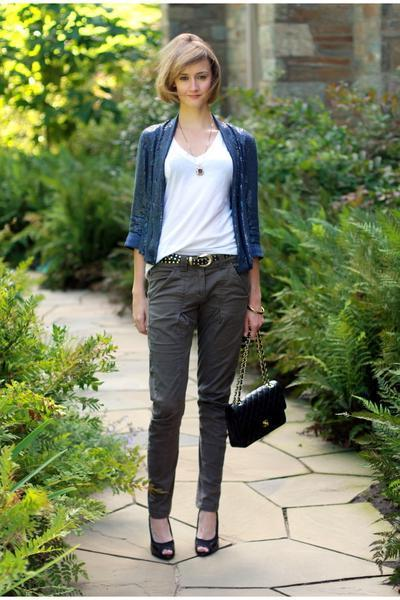jacket: (123, 117, 259, 269)
trousers: (145, 257, 258, 517)
vest: (158, 127, 238, 259)
